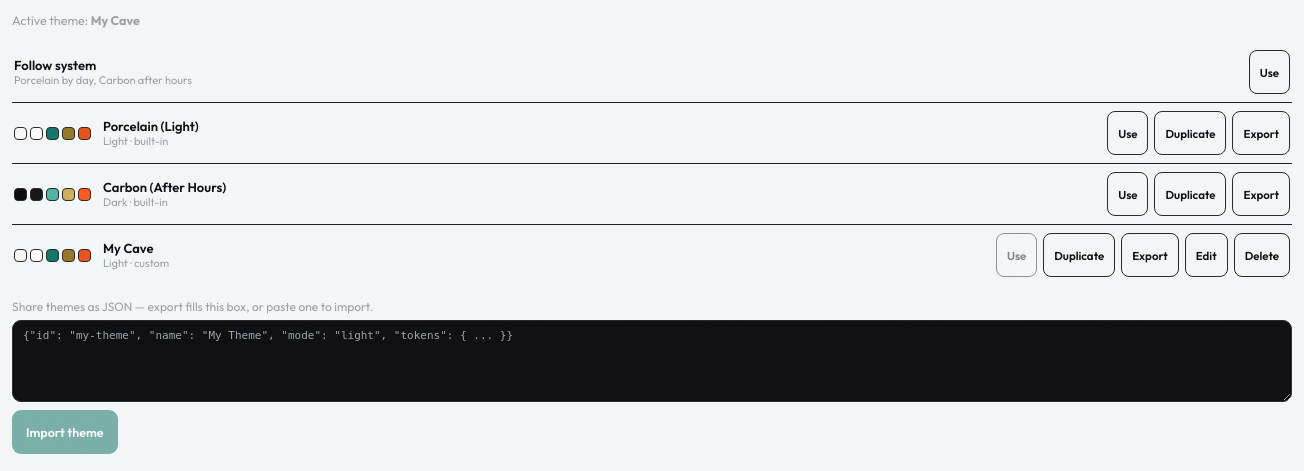
Test: ThemeStudio › deleting the active custom theme falls back to Follow system
The width and height of the screenshot is (1304, 471).
Click the button "Delete". click: (1262, 255)
box: [1234,233,1290,277]
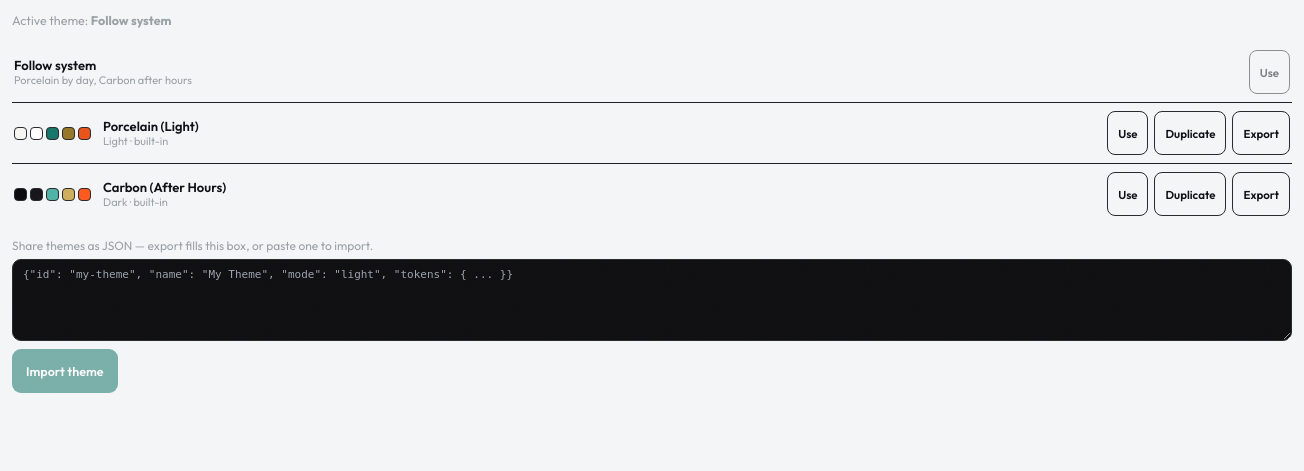
Result: the element with test id "theme-active" shows "Follow system" at [91,12,172,28]
